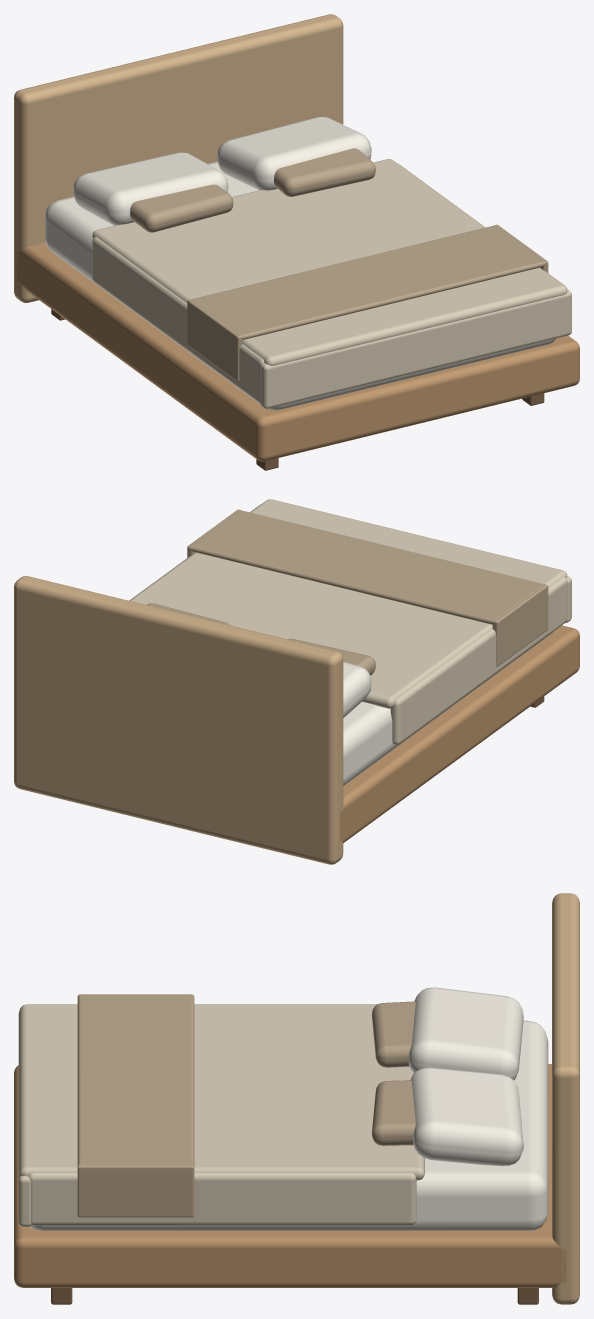
File: bed.glb
3 views of the same model, one above another, from view 1: azimuth 30°, elevation 25°; view 2: azimuth 150°, elevation 25°; view 3: azimuth 270°, elevation 25° (orthographic). The views are drawn at different scales.
Parts seen in each view (by area): view 1: studio/linen, studio/oakLight, studio/oak, studio/sand, studio/cream; view 2: studio/oakLight, studio/linen, studio/sand, studio/oak, studio/cream; view 3: studio/linen, studio/cream, studio/oak, studio/sand, studio/oakLight, studio/oakDark.
Part boxes in pixels (x1,y1,x2,y2): studio/linen: (92,159,571,408); studio/oakLight: (14,14,343,302); studio/oak: (16,242,579,461); studio/sand: (130,148,548,381); studio/cream: (45,117,555,410); studio/oakLight: (14,576,343,864); studio/linen: (129,499,571,744); studio/sand: (147,509,548,675); studio/oak: (340,625,579,842); studio/cream: (343,632,552,785); studio/linen: (18,1004,424,1226); studio/cream: (30,987,548,1230); studio/oak: (14,1064,566,1287); studio/sand: (77,994,415,1217); studio/oakLight: (552,893,579,1304); studio/oakDark: (51,1288,538,1304).
Bounding box in the file's own units: 1.6 × 1.03 × 2.13.
